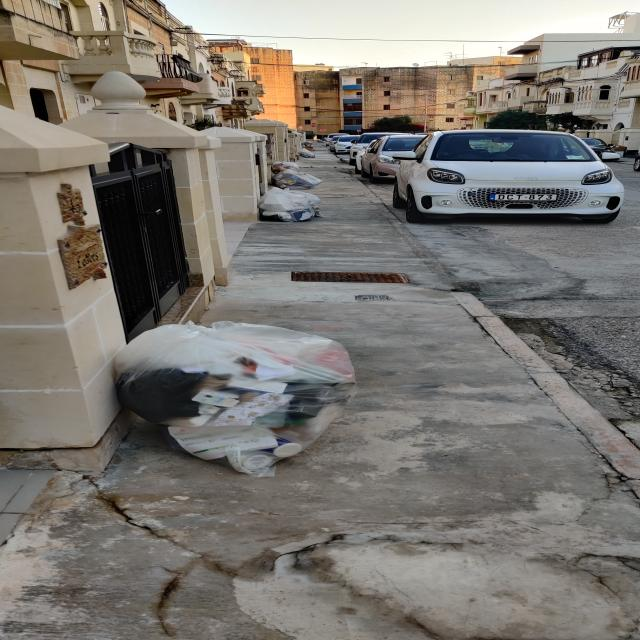Recyclable Material -Grey Bags-: (107, 317, 360, 481), (255, 161, 326, 222), (299, 148, 315, 159)
